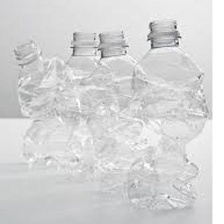bottle: (120, 13, 214, 210), (9, 35, 83, 171), (88, 24, 150, 179), (57, 23, 109, 181)
